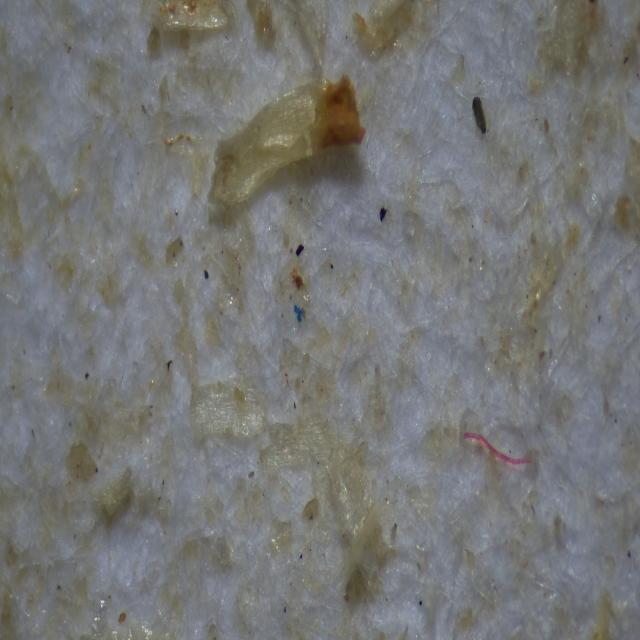microplastic: (455, 421, 538, 479), (288, 298, 310, 324)
